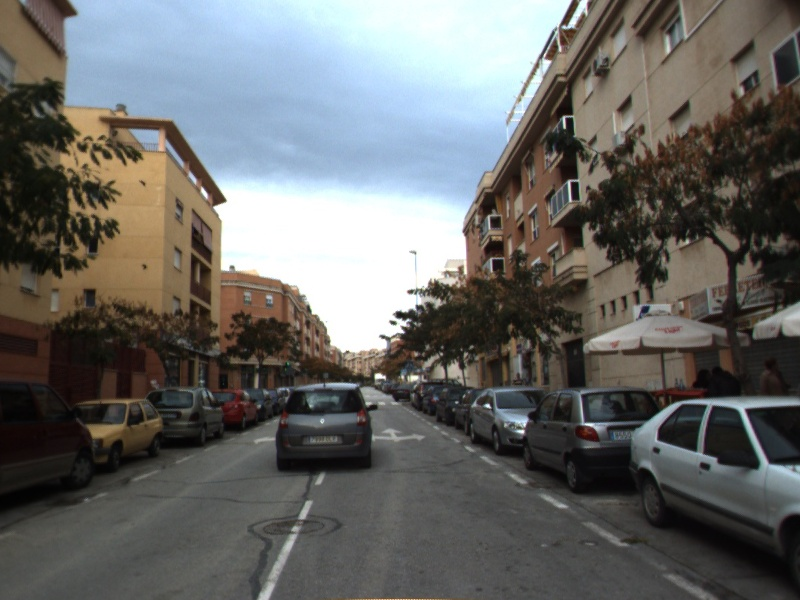STRAIGHT_LEFT_RIGHT: (370, 425, 428, 444)
